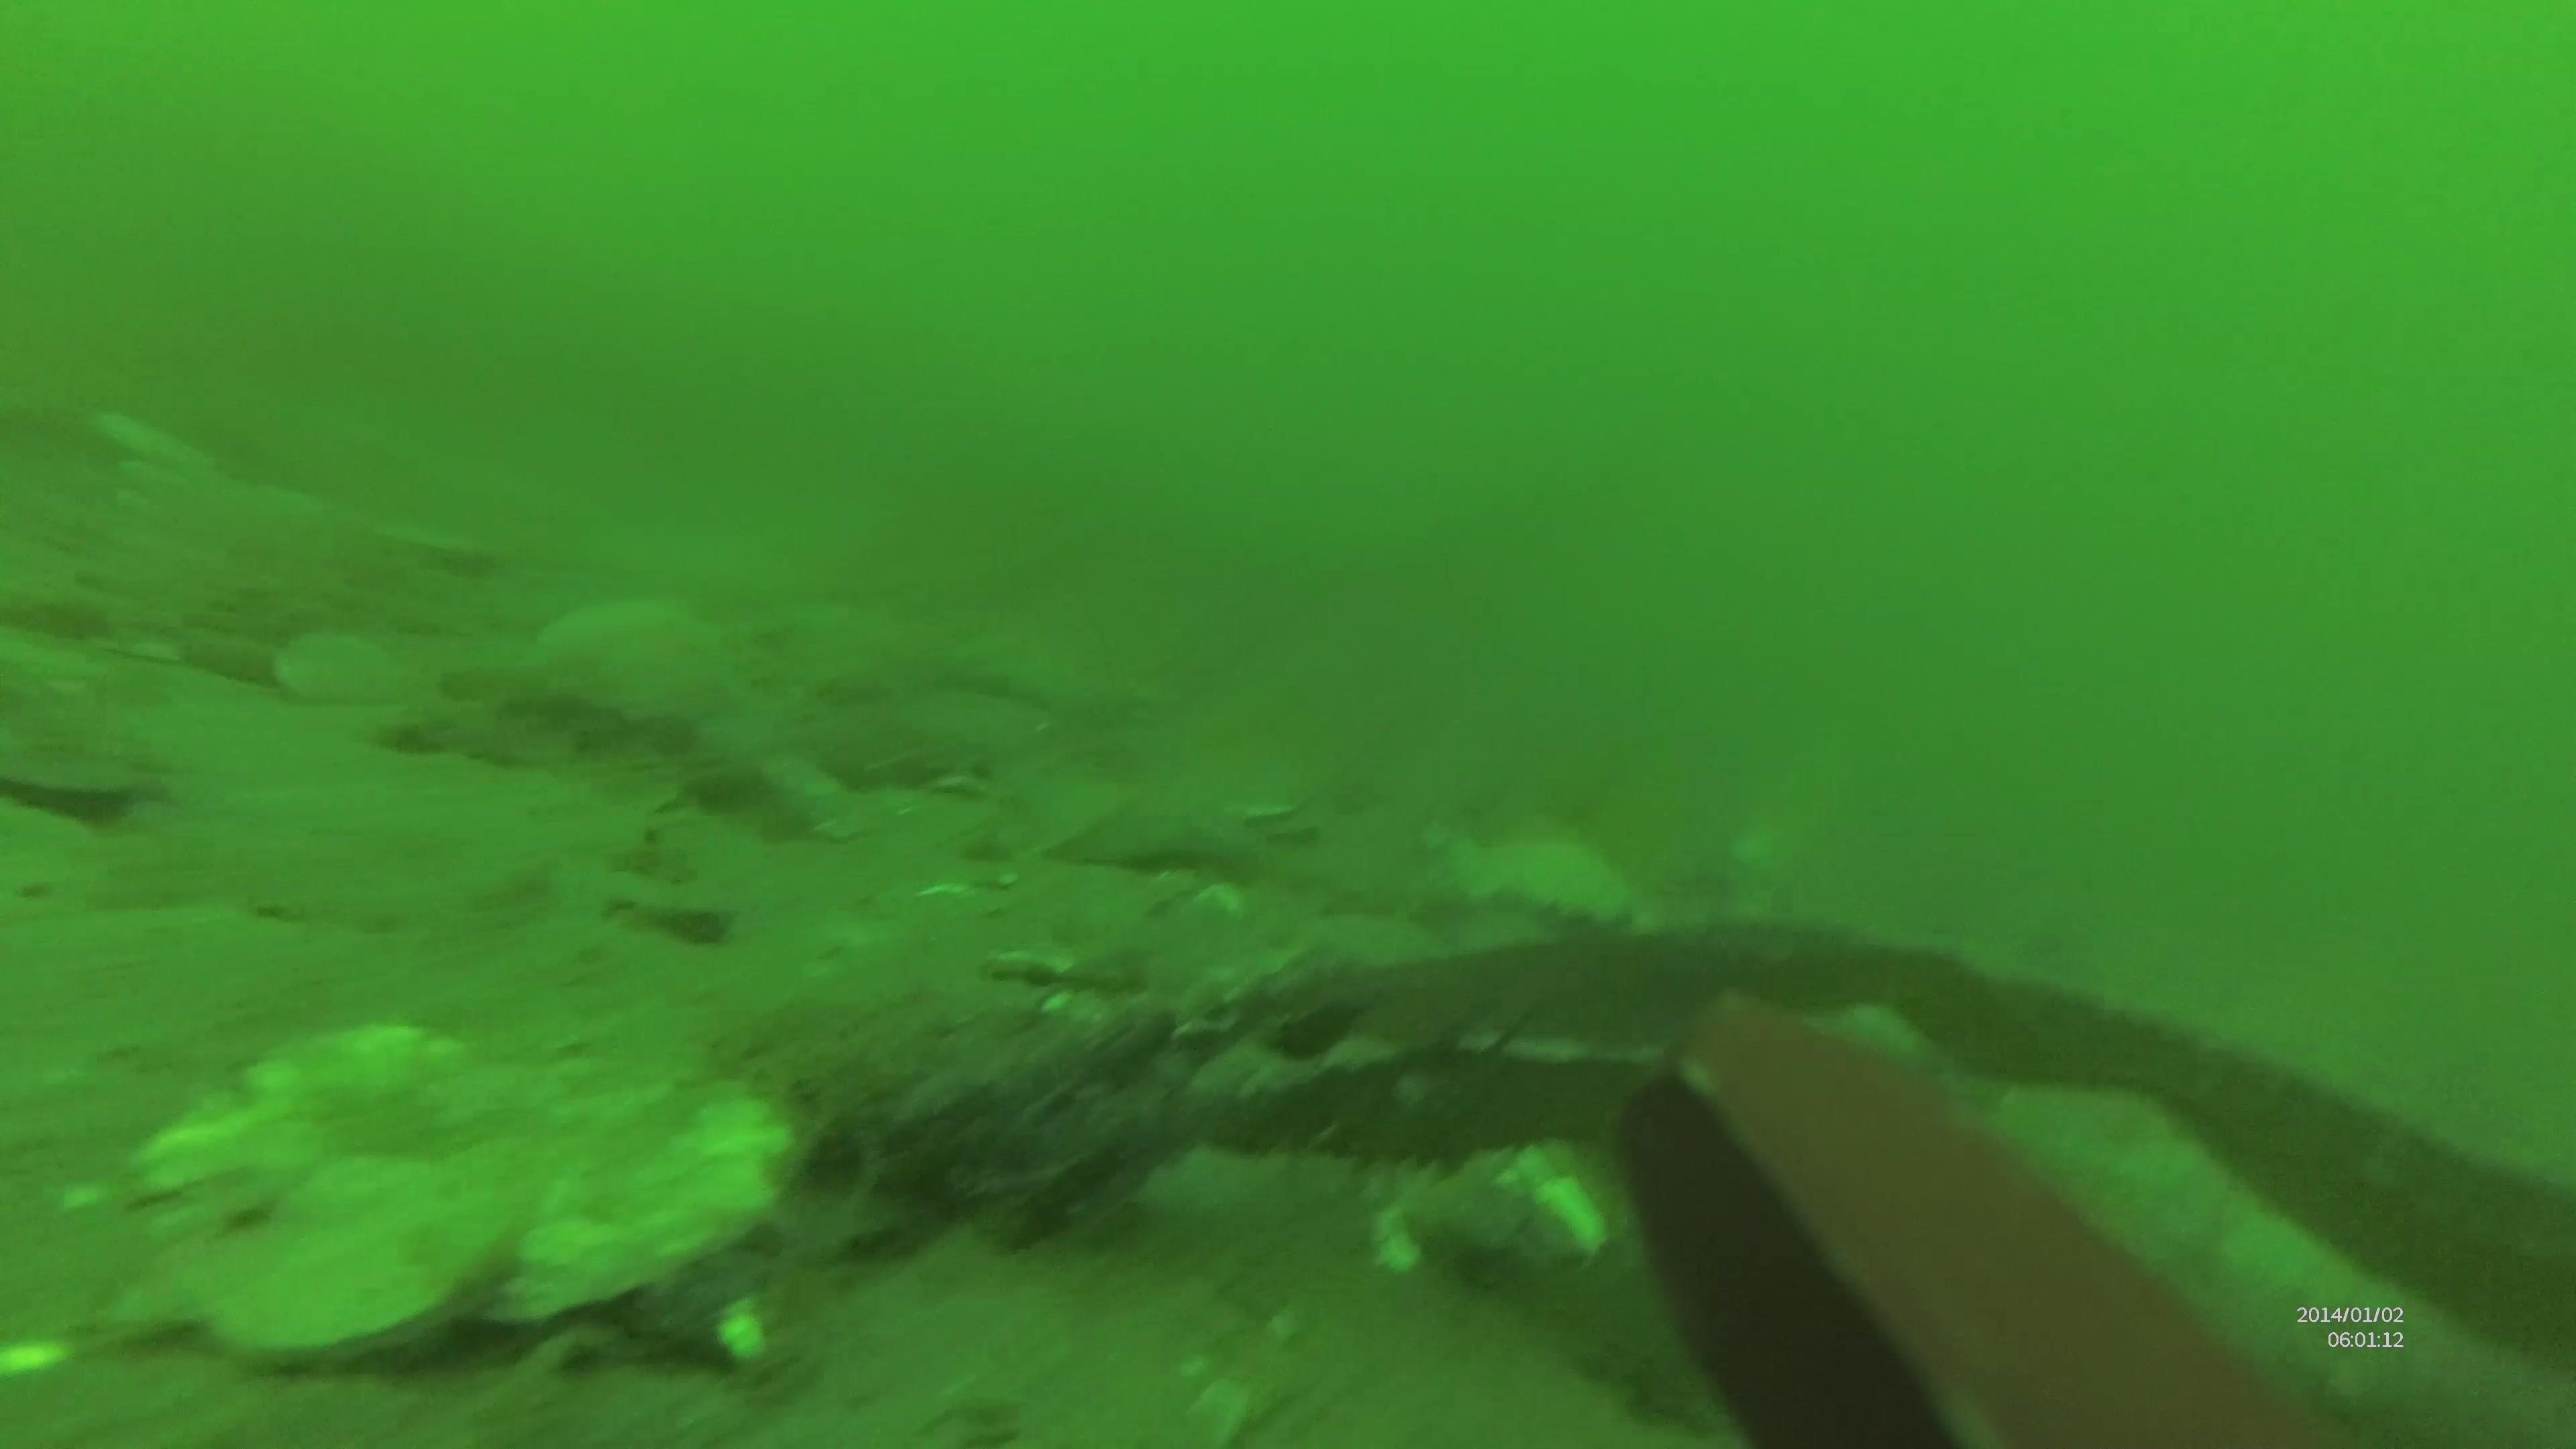starfish: (472, 598, 771, 757), (1442, 814, 1660, 938)
